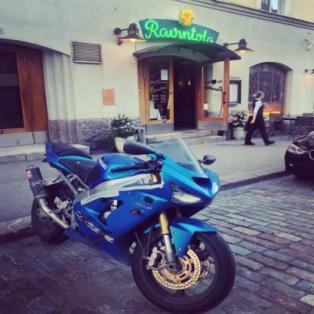Motocicleta: (20, 124, 241, 314)
